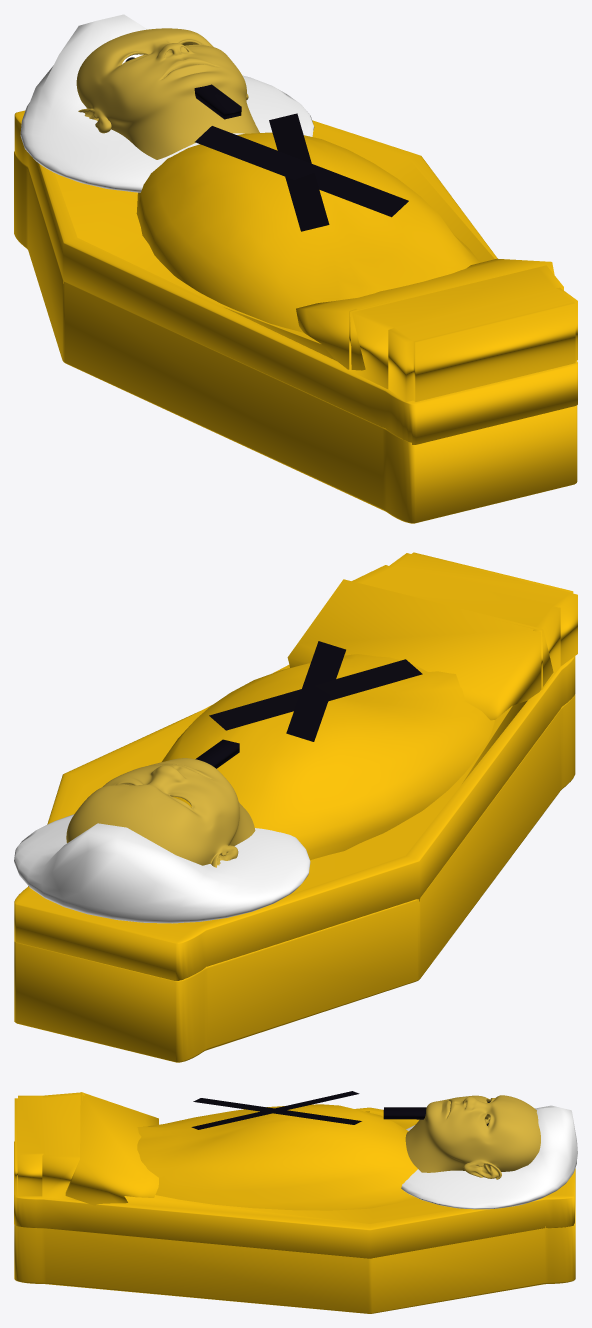
File: sarcophagus3.glb
The picture shows the model from 3 angles, top to bottom: view 1: azimuth 30°, elevation 25°; view 2: azimuth 150°, elevation 25°; view 3: azimuth 270°, elevation 25°; orthographic projection. The views are drawn at different scales.
Parts seen in each view (by area): view 1: Sphere.001, Plane, Cube; view 2: Sphere.001, Plane, Cube; view 3: Sphere.001, Plane, Cube.
Part boxes in pixels (x1=…): Sphere.001: x1=14, y1=14, x2=577, y2=523; Plane: x1=76, y1=28, x2=259, y2=159; Cube: x1=194, y1=84, x2=241, y2=119; Sphere.001: x1=14, y1=552, x2=577, y2=1062; Plane: x1=66, y1=758, x2=255, y2=867; Cube: x1=195, y1=739, x2=239, y2=768; Sphere.001: x1=14, y1=1091, x2=577, y2=1313; Plane: x1=405, y1=1095, x2=540, y2=1179; Cube: x1=383, y1=1107, x2=426, y2=1119.
Size of the model in its own units: 3.39 by 2.04 by 6.58.
